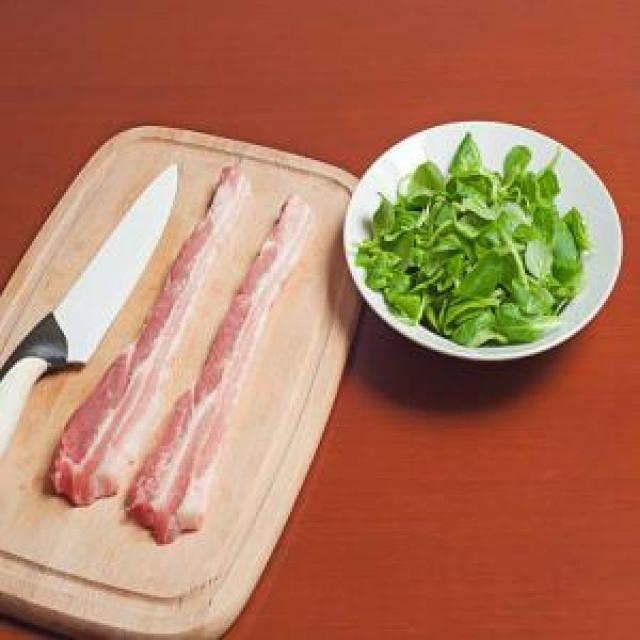knife: (0, 162, 179, 484)
